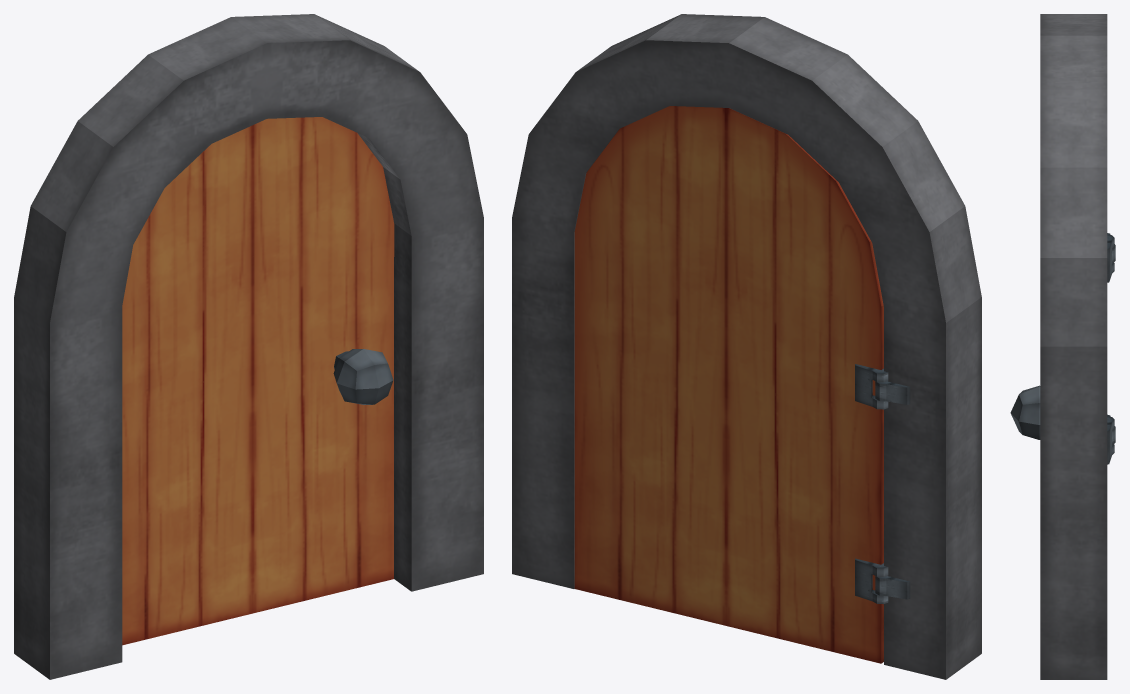
File: Porta.fbx
The picture shows the model from 3 angles, left to right: view 1: azimuth 30°, elevation 25°; view 2: azimuth 150°, elevation 25°; view 3: azimuth 270°, elevation 25°; orthographic projection. The views are drawn at different scales.
Visible parts, largest first — view 1: Door; view 2: Door; view 3: Door.
Part boxes in pixels (x1,y1,x2,y2): Door: (14,14,483,679); Door: (512,14,981,679); Door: (1010,14,1115,679).
Size of the model in its own units: 140 by 180 by 31.42.
